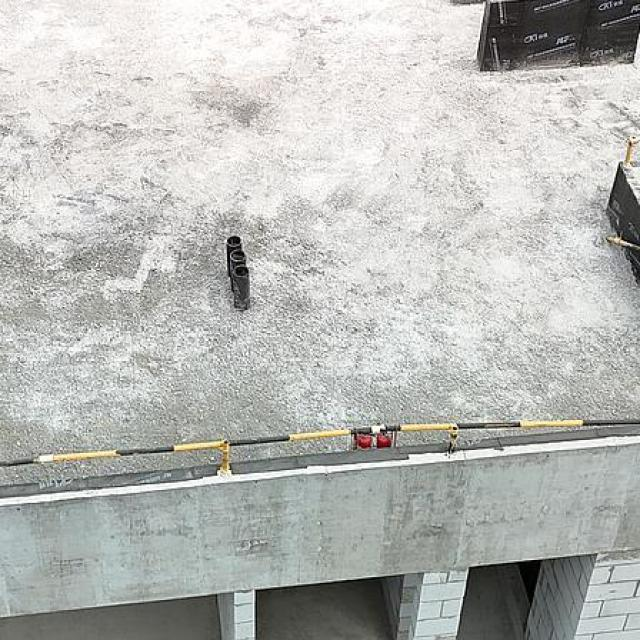edge_guardrail: (0, 416, 640, 471), (605, 229, 640, 250), (621, 135, 640, 166)
